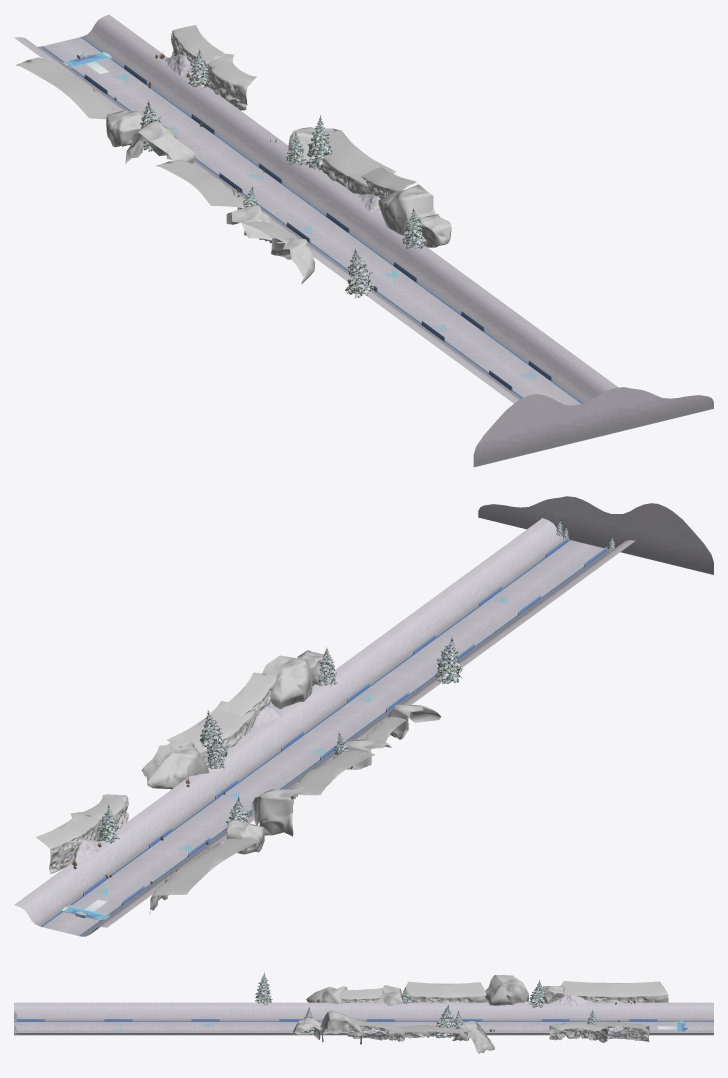
File: Ski Project.fbx
3 views of the same model, one above another, from view 1: azimuth 30°, elevation 25°; view 2: azimuth 150°, elevation 25°; view 3: azimuth 270°, elevation 25° (orthographic). The views are drawn at different scales.
Visible parts, largest first — view 1: Snow_Road, Game_track, Rock_Medium_A_01, Vision, Rock_Medium_A_02, Banyan_Tree, Obstacle_A_02, Obstacle_A_01, Snow_Cover_A_01; view 2: Snow_Road, Game_track, Rock_Medium_A_01, Rock_Medium_A_02, Vision, Banyan_Tree, Obstacle_A_01, Obstacle_A_02, Snow_Cover_A_01; view 3: Snow_Road, Rock_Medium_A_01, Game_track, Rock_Medium_A_02, Banyan_Tree, Obstacle_A_01, Snow_Cover_A_01, Obstacle_A_02.
Boxes of the visible parts, left/top/right/bottom form: Snow_Road: left=14, top=14, right=618, bottom=403; Game_track: left=43, top=37, right=580, bottom=405; Rock_Medium_A_01: left=16, top=25, right=416, bottom=243; Vision: left=473, top=387, right=713, bottom=467; Rock_Medium_A_02: left=106, top=110, right=451, bottom=283; Banyan_Tree: left=140, top=49, right=427, bottom=298; Obstacle_A_02: left=41, top=36, right=582, bottom=403; Obstacle_A_01: left=84, top=64, right=552, bottom=390; Snow_Cover_A_01: left=112, top=54, right=381, bottom=213; Snow_Road: left=14, top=518, right=635, bottom=936; Game_track: left=42, top=540, right=603, bottom=935; Rock_Medium_A_01: left=36, top=672, right=406, bottom=914; Rock_Medium_A_02: left=141, top=650, right=441, bottom=854; Vision: left=478, top=496, right=713, bottom=574; Banyan_Tree: left=98, top=520, right=615, bottom=843; Obstacle_A_01: left=83, top=537, right=607, bottom=905; Obstacle_A_02: left=41, top=540, right=608, bottom=936; Snow_Cover_A_01: left=74, top=702, right=281, bottom=863; Snow_Road: left=14, top=1002, right=713, bottom=1035; Rock_Medium_A_01: left=340, top=981, right=668, bottom=1042; Game_track: left=14, top=1022, right=713, bottom=1031; Rock_Medium_A_02: left=293, top=975, right=564, bottom=1053; Banyan_Tree: left=14, top=972, right=597, bottom=1037; Obstacle_A_01: left=16, top=1019, right=657, bottom=1021; Snow_Cover_A_01: left=354, top=993, right=625, bottom=1036; Obstacle_A_02: left=14, top=1021, right=713, bottom=1021.
Size of the model in its own units: 2573 by 665 by 10000.
